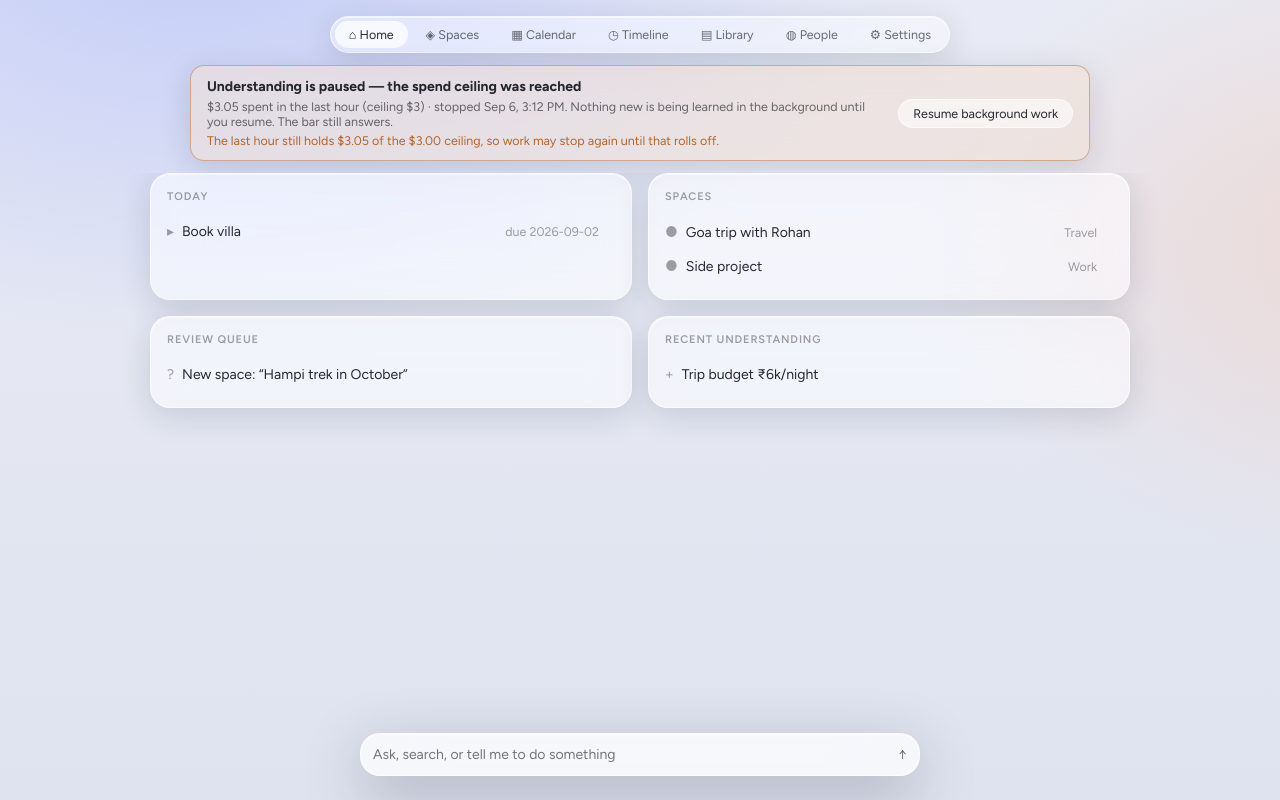
Test: C3 — a halted pipeline announces itself › a resume that fails says so and keeps the banner up
The image size is (1280, 800).
Expected: the message named "pipeline halted" is shown, [190,65,1090,161]
Click the button "Resume background work".
click(986, 113)  # box [898,98,1073,128]
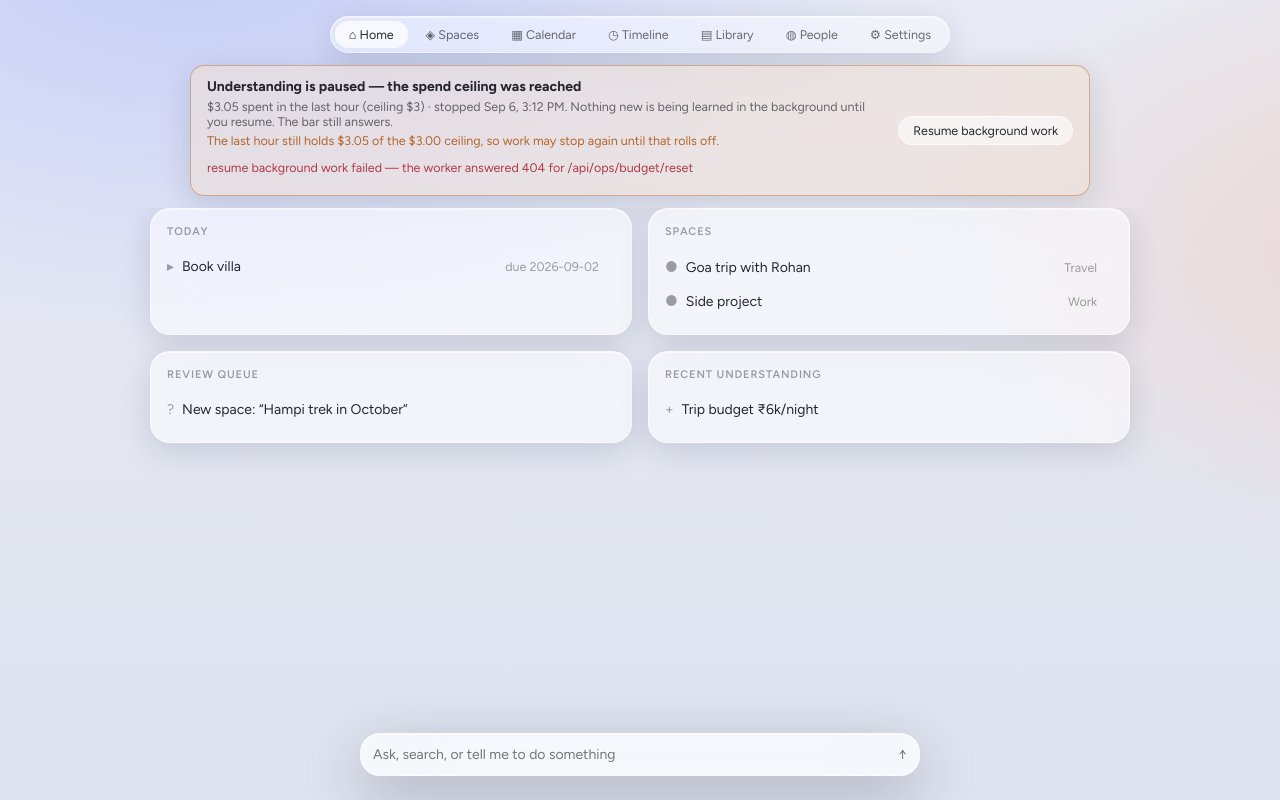
Expected: the message named "pipeline halted" shows "Understanding is paused", [207,78,581,95]
Expected: the message named "pipeline halted" shows "failed", [348,160,402,175]
